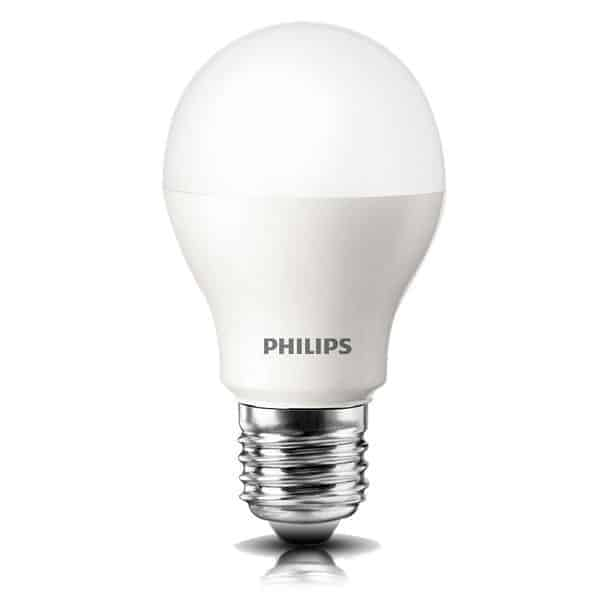Light_bulb: (151, 12, 463, 559)
